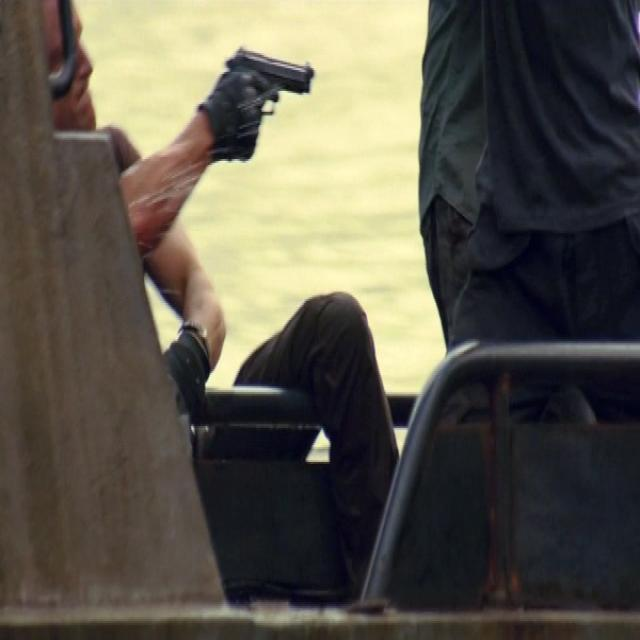weapons: (207, 19, 324, 177)
